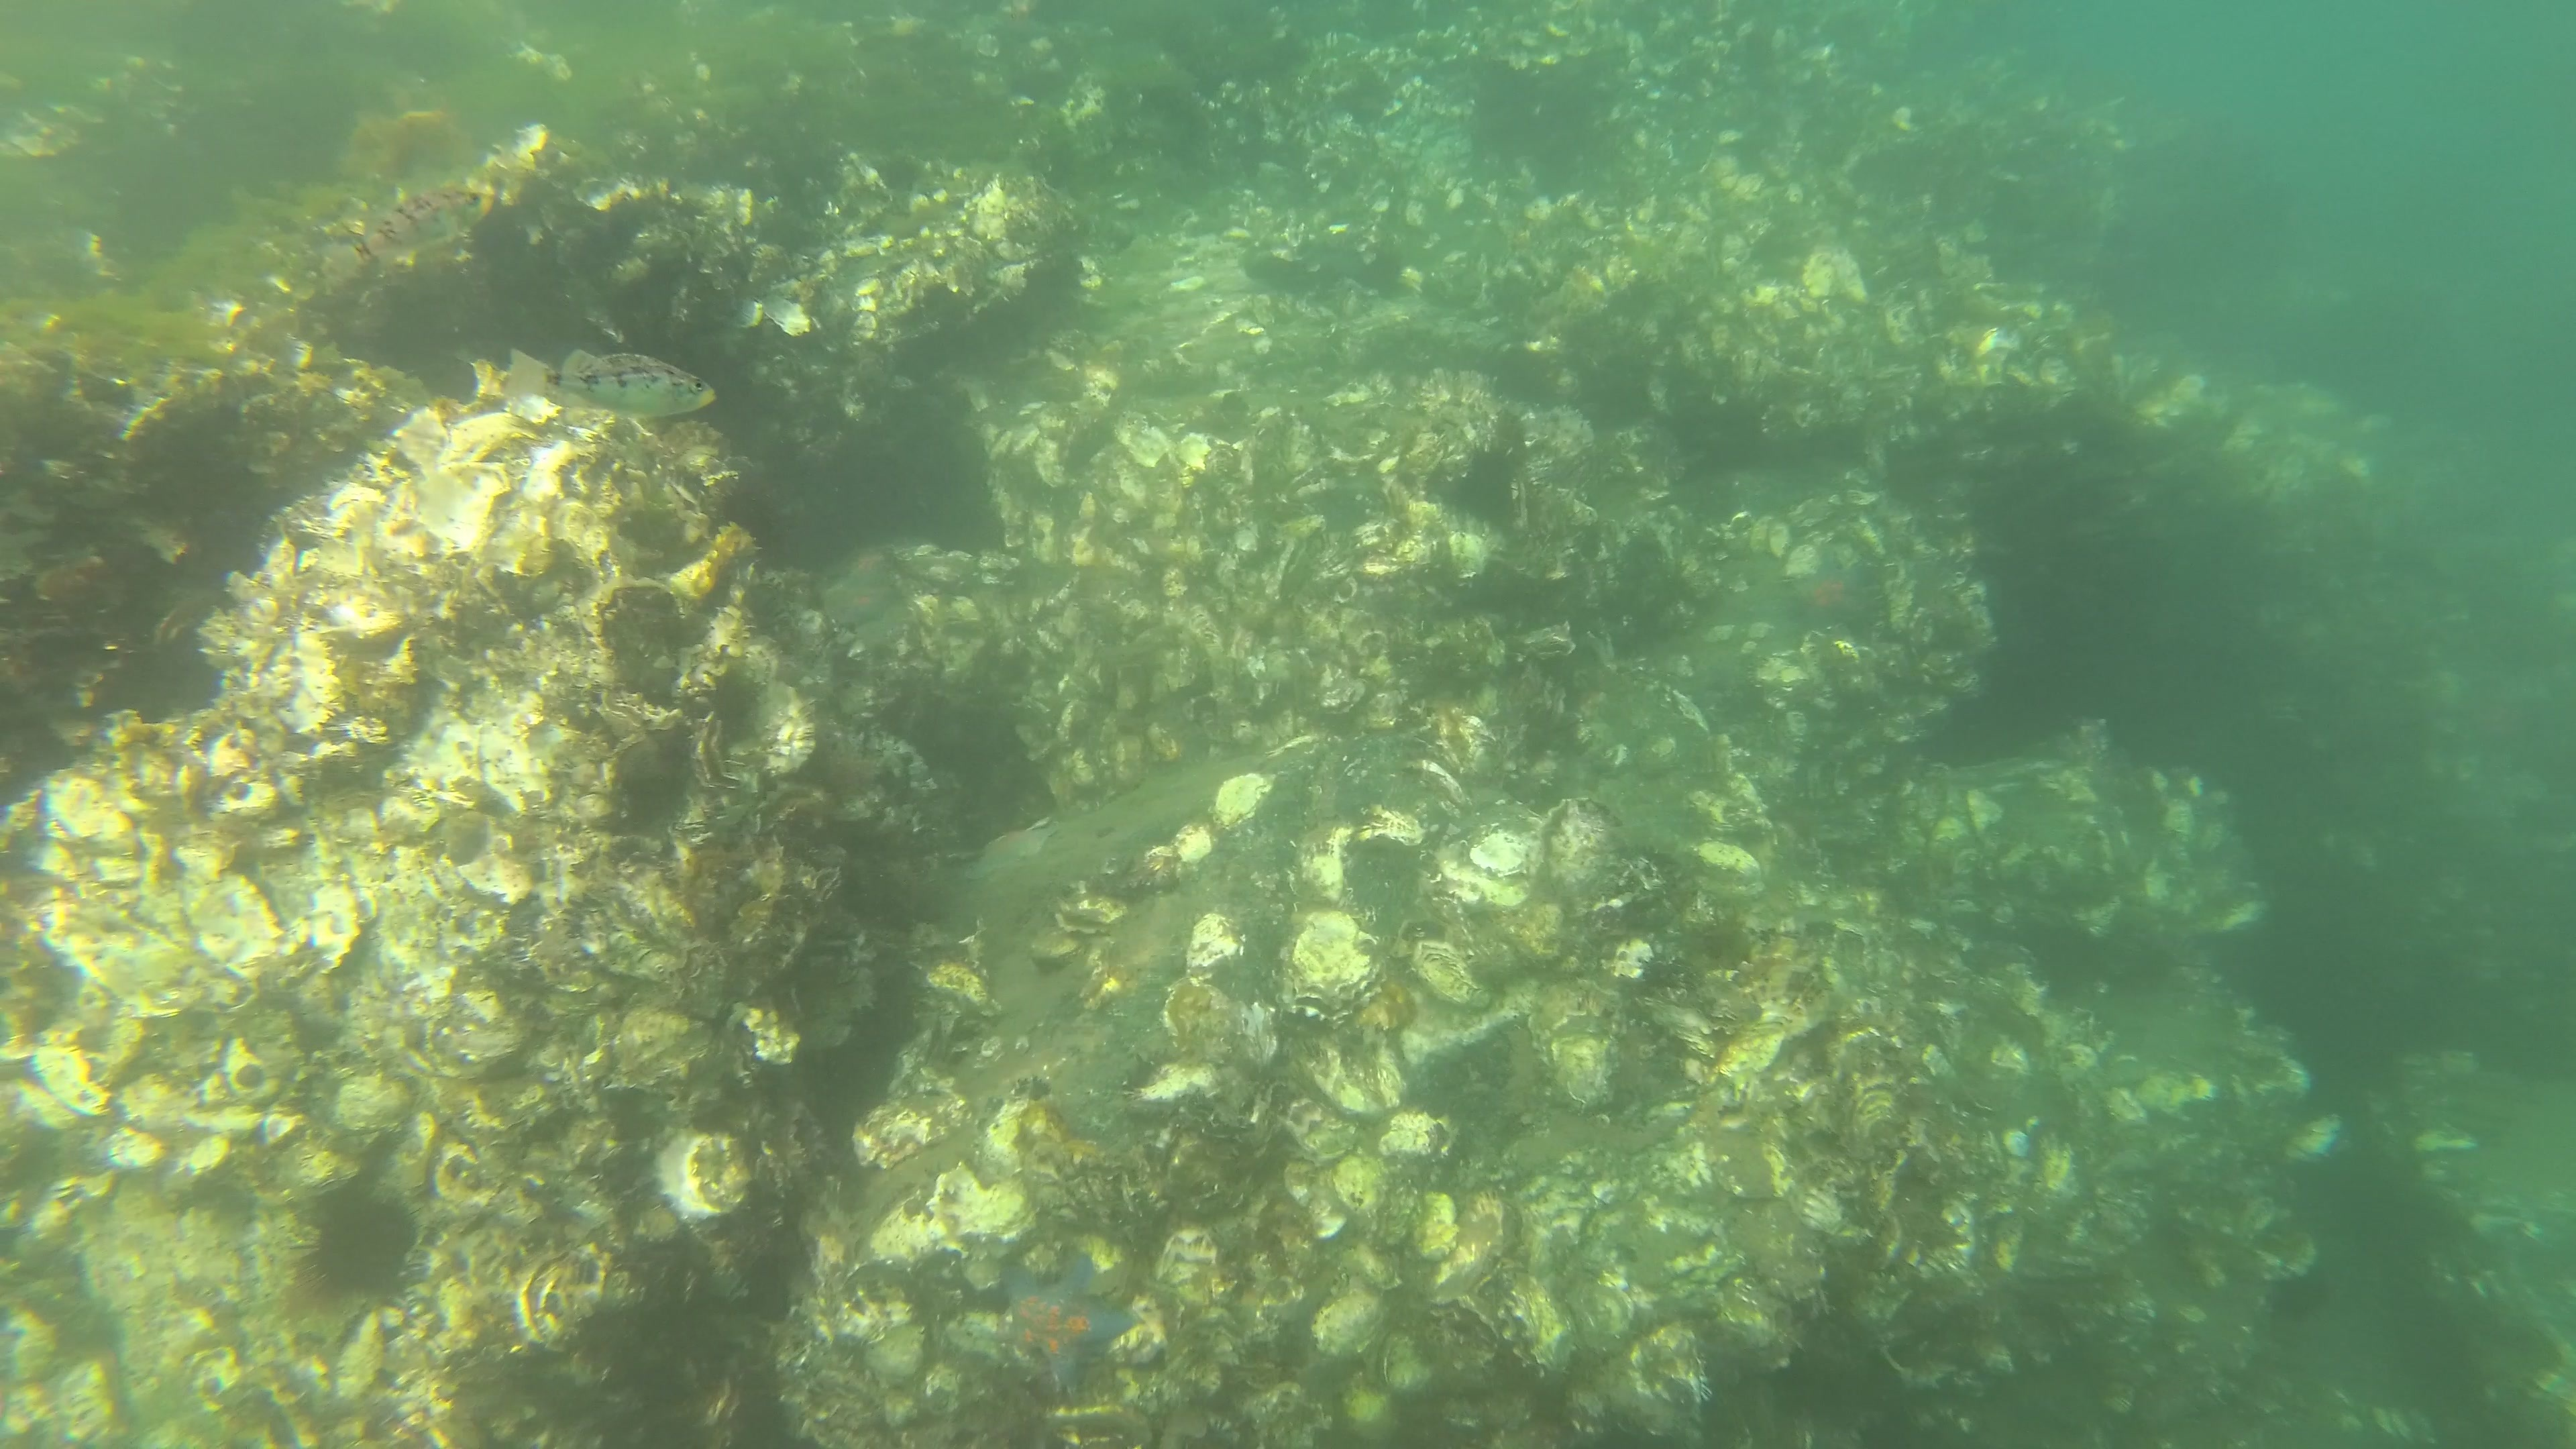echinus: (297, 1180, 426, 1302), (699, 672, 766, 754)
starfish: (1000, 1249, 1136, 1396), (1787, 550, 1877, 635)
